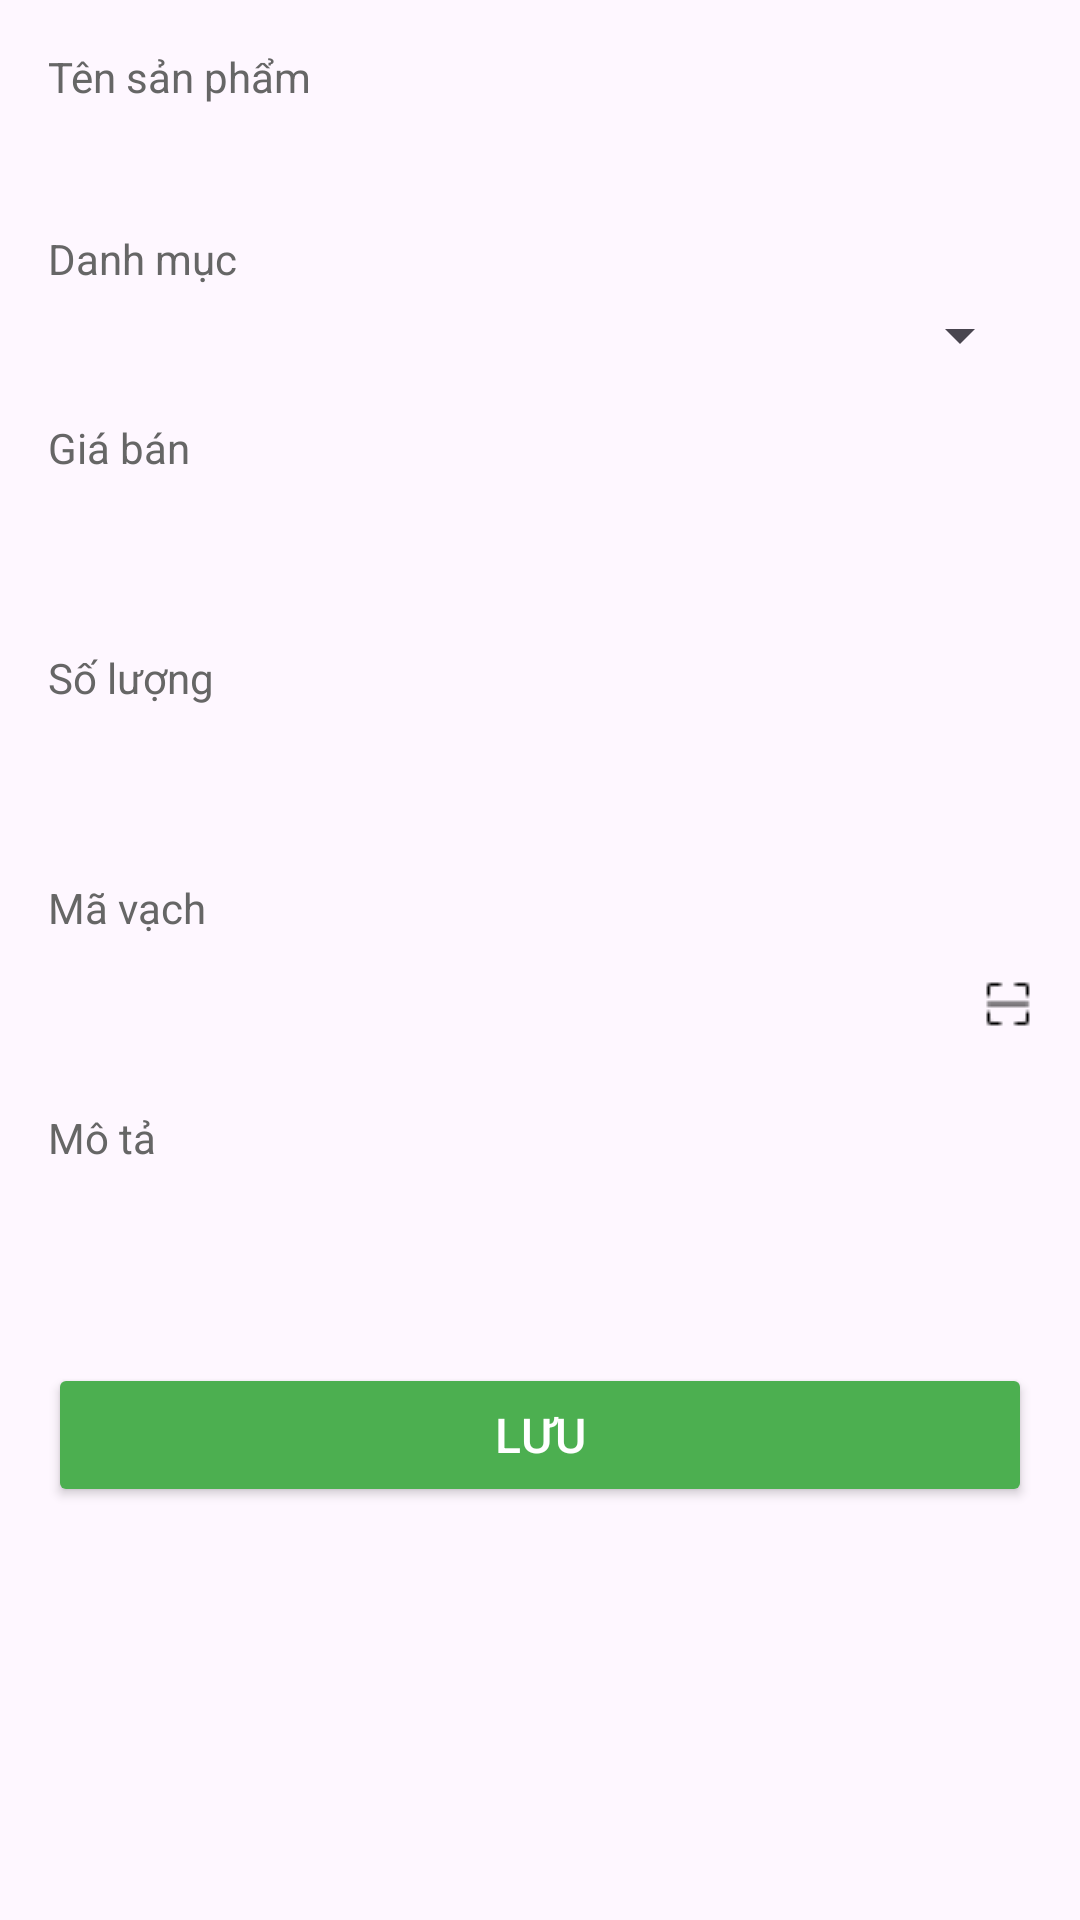

Icon bounding boxes for this 1080 × 1920 phone screenshot, format (x1, y1, x2, y2):
scanner: (986, 982, 1030, 1026)
